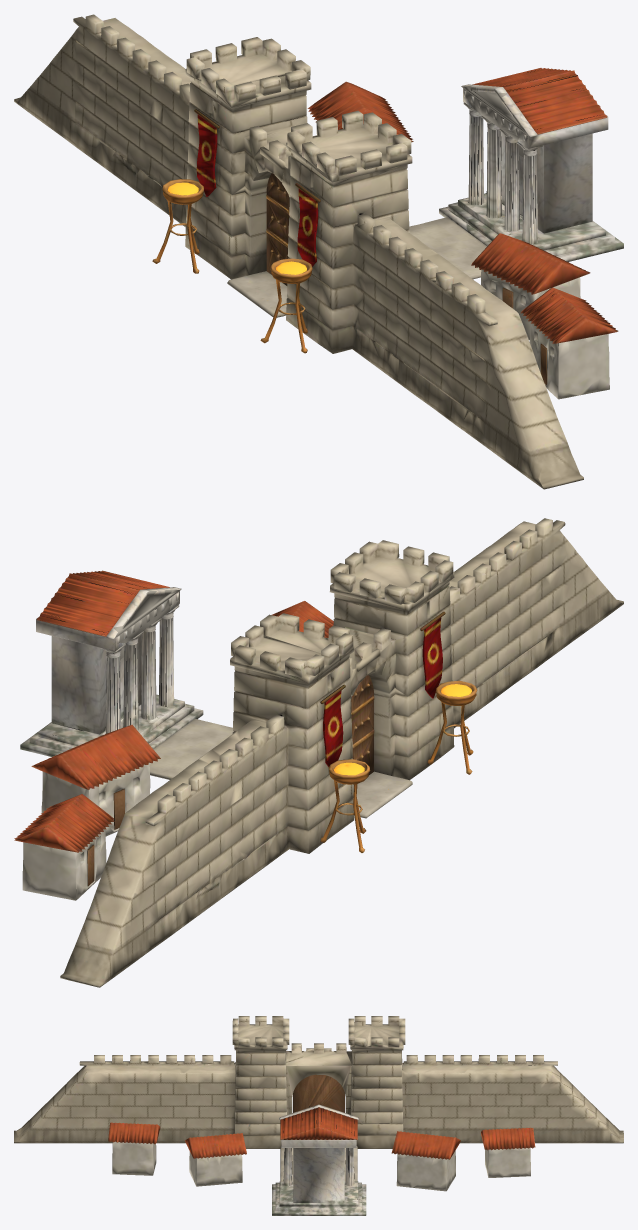
The model's file is classical_city.glb.
The picture shows the model from 3 angles, top to bottom: view 1: azimuth 30°, elevation 25°; view 2: azimuth 150°, elevation 25°; view 3: azimuth 270°, elevation 25°; orthographic projection. The views are drawn at different scales.
Visible parts, largest first — view 1: City; view 2: City; view 3: City.
Boxes of the visible parts, left/top/right/bottom form: City: left=14, top=14, right=623, bottom=489; City: left=14, top=518, right=623, bottom=987; City: left=14, top=1016, right=623, bottom=1215.
Bounding box in the file's own units: 5.7 × 2.82 × 14.2.
Materials: 2 (1 with a texture image).
